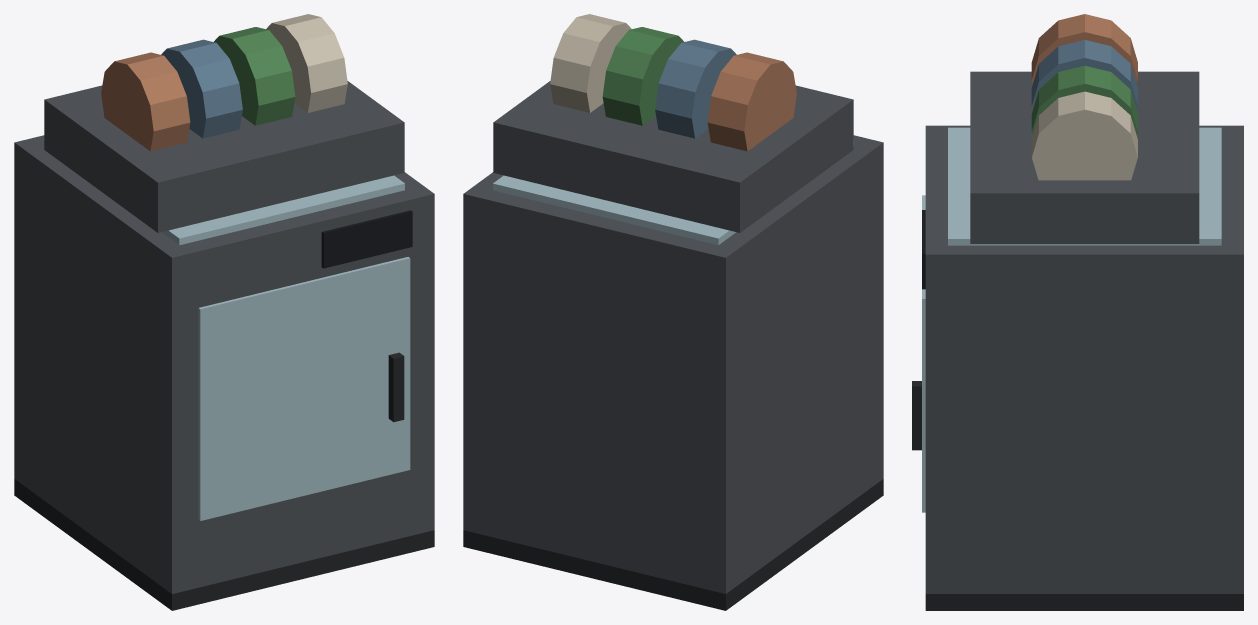
Rendered from printer_large_feeder.glb.
3 renders of one model, left to right at view 1: azimuth 30°, elevation 25°; view 2: azimuth 150°, elevation 25°; view 3: azimuth 270°, elevation 25°, orthographic.
Visible parts, largest first — view 1: printer_large_feeder; view 2: printer_large_feeder; view 3: printer_large_feeder.
Boxes of the visible parts, x1,y1,x2,y2 form: printer_large_feeder: [14, 14, 434, 610]; printer_large_feeder: [463, 14, 883, 610]; printer_large_feeder: [912, 14, 1243, 610].
Bounding box in the file's own units: 0.49 × 0.857 × 0.532.
